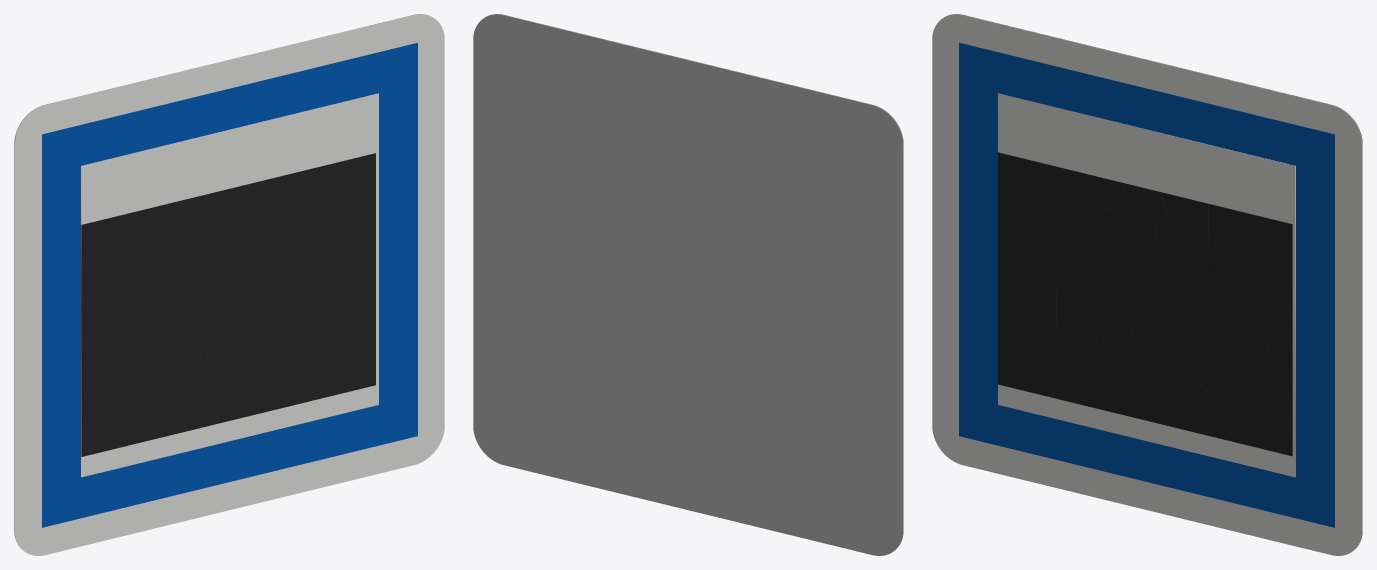
3 renders of one model, left to right at view 1: azimuth 30°, elevation 25°; view 2: azimuth 150°, elevation 25°; view 3: azimuth 330°, elevation 25°, orthographic.
Visible parts, largest first — view 1: CE22_p03, CE22_p01, CE22_p00, CE22_p02, CE22_p05, CE22_p07, CE22_p04, CE22_p10, CE22_p08, CE22_p06, CE22_dos; view 2: CE22_dos, CE22_p00; view 3: CE22_p03, CE22_p01, CE22_p00, CE22_p02, CE22_p05, CE22_p07, CE22_p04, CE22_p10, CE22_p08, CE22_p06, CE22_dos.
Part boxes in pixels (box(x1,y1,x2,y2)): CE22_p03: box(81, 153, 375, 456); CE22_p01: box(42, 42, 417, 527); CE22_p00: box(14, 14, 444, 555); CE22_p02: box(81, 93, 378, 477); CE22_p05: box(227, 174, 291, 263); CE22_p07: box(166, 321, 217, 398); CE22_p04: box(165, 194, 207, 278); CE22_p10: box(309, 283, 353, 366); CE22_p08: box(232, 302, 276, 385); CE22_p06: box(113, 335, 141, 412); CE22_dos: box(14, 14, 431, 547); CE22_dos: box(473, 14, 903, 555); CE22_p00: box(486, 14, 903, 547); CE22_p03: box(998, 152, 1292, 456); CE22_p01: box(959, 42, 1334, 527); CE22_p00: box(932, 14, 1362, 555); CE22_p02: box(998, 93, 1295, 477); CE22_p05: box(1143, 188, 1208, 278); CE22_p07: box(1081, 302, 1133, 379); CE22_p04: box(1081, 173, 1124, 250); CE22_p10: box(1223, 332, 1268, 412); CE22_p08: box(1147, 313, 1191, 393); CE22_p06: box(1029, 288, 1056, 365); CE22_dos: box(945, 14, 1362, 547).
Bounding box in the file's own units: 0.7 × 0.6999 × 0.0059.
